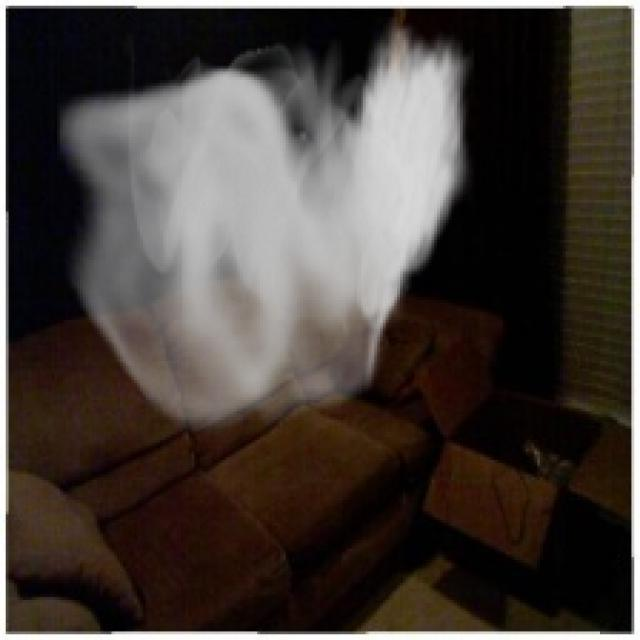Smoke: (57, 17, 474, 443)
